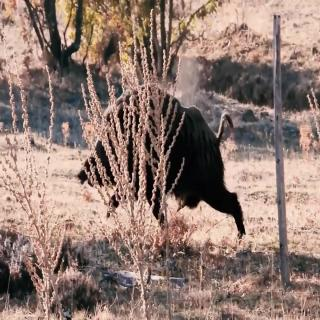Pig: (78, 85, 246, 235)
